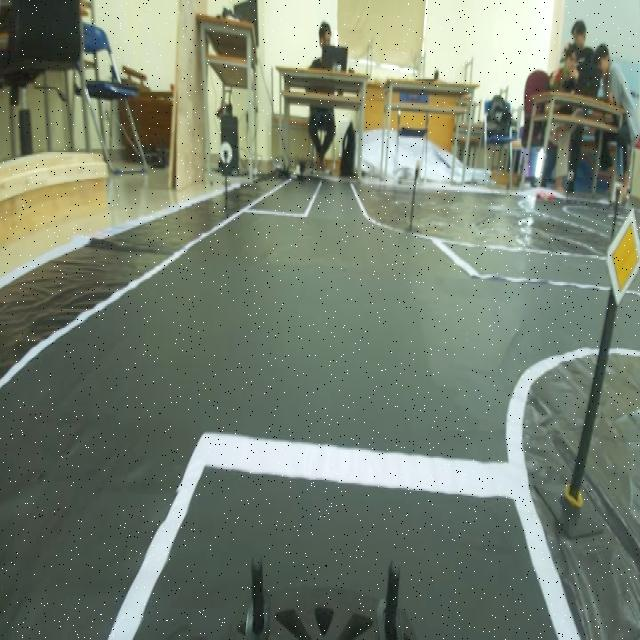priority: (593, 190, 640, 314)
